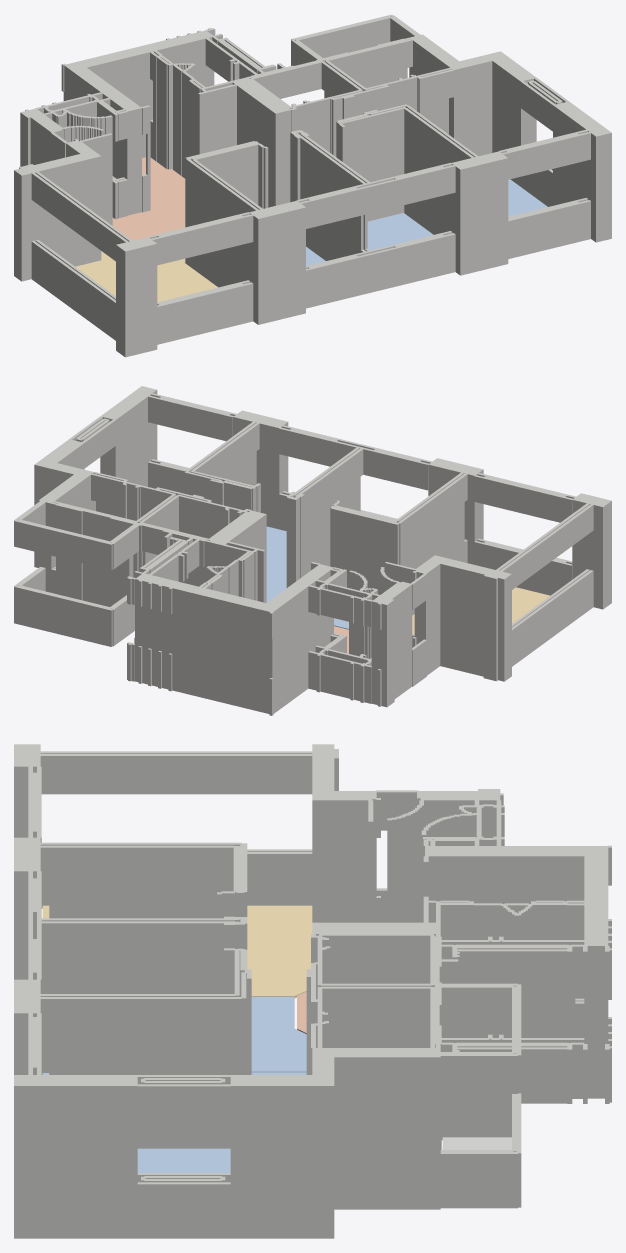
3 renders of one model, top to bottom at view 1: azimuth 30°, elevation 25°; view 2: azimuth 150°, elevation 25°; view 3: azimuth 270°, elevation 25°, orthographic. The views are drawn at different scales.
Parts seen in each view (by area): view 1: walls, room:kitchen:0, room:living:4, room:bedroom:7, room:bedroom:8; view 2: walls, room:bedroom:7, room:living:4; view 3: walls, room:living:4, room:bedroom:5, room:bedroom:8, room:ledge:2.
Boxes of the visible parts, left/top/right/bottom form: walls: left=14, top=14, right=611, bottom=357; room:kitchen:0: left=112, top=157, right=185, bottom=240; room:living:4: left=75, top=251, right=217, bottom=302; room:bedroom:7: left=367, top=213, right=433, bottom=250; room:bedroom:8: left=508, top=179, right=547, bottom=216; walls: left=14, top=386, right=611, bottom=715; room:bedroom:7: left=266, top=526, right=286, bottom=602; room:living:4: left=412, top=587, right=549, bottom=634; walls: left=14, top=744, right=611, bottom=1238; room:living:4: left=42, top=905, right=312, bottom=998; room:bedroom:5: left=251, top=996, right=306, bottom=1072; room:bedroom:8: left=137, top=1148, right=230, bottom=1172; room:ledge:2: left=442, top=1137, right=511, bottom=1149.
Size of the model in its own units: 13.47 by 2.8 by 9.95.
